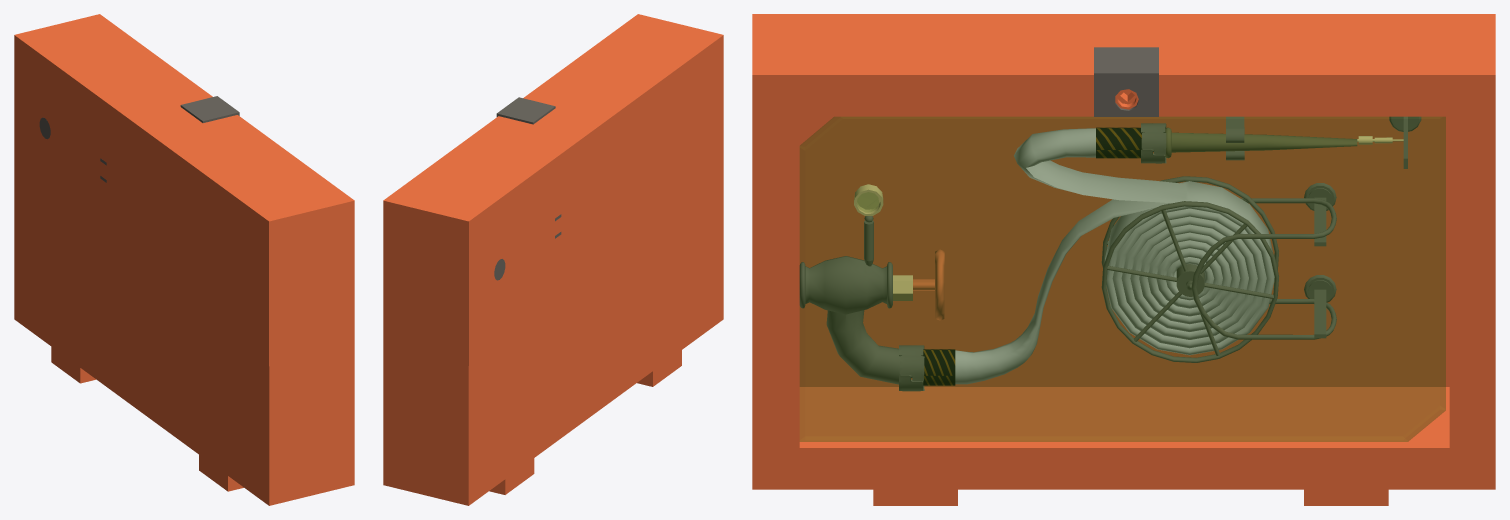
3 renders of one model, left to right at view 1: azimuth 30°, elevation 25°; view 2: azimuth 150°, elevation 25°; view 3: azimuth 270°, elevation 25°, orthographic. The views are drawn at different scales.
Visible parts, largest first — view 1: BOCAORO; view 2: BOCAORO; view 3: BOCAORO.
Boxes of the visible parts, x1,y1,x2,y2 form: BOCAORO: (14, 14, 354, 505); BOCAORO: (383, 14, 723, 505); BOCAORO: (752, 14, 1495, 505).
Bounding box in the file's own units: 127 × 418 × 638.
